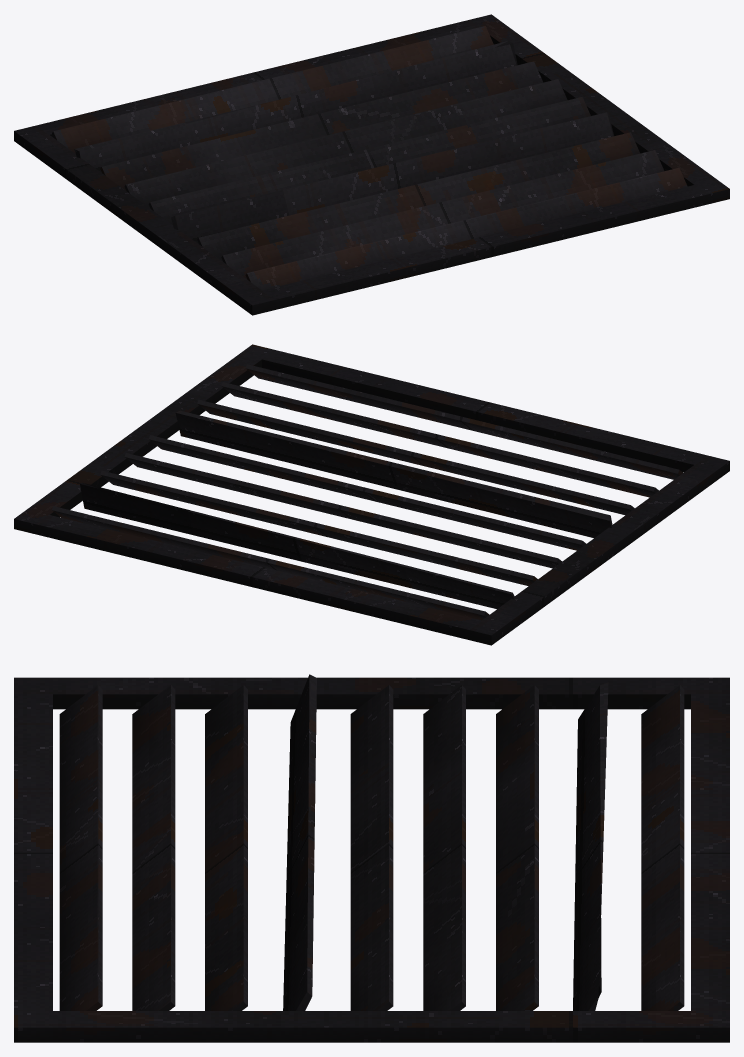
Rendered from duct_grille.glb.
The picture shows the model from 3 angles, top to bottom: view 1: azimuth 30°, elevation 25°; view 2: azimuth 150°, elevation 25°; view 3: azimuth 270°, elevation 25°; orthographic projection. The views are drawn at different scales.
Parts seen in each view (by area): view 1: body; view 2: body; view 3: body.
Part boxes in pixels (bbox=[...]): body: bbox=[14, 14, 729, 315]; body: bbox=[14, 344, 729, 645]; body: bbox=[14, 674, 729, 1042].
Size of what is drawn, in the model's own units: 1.48 by 0.1004 by 1.28.
Materials: 2 (2 with a texture image).
